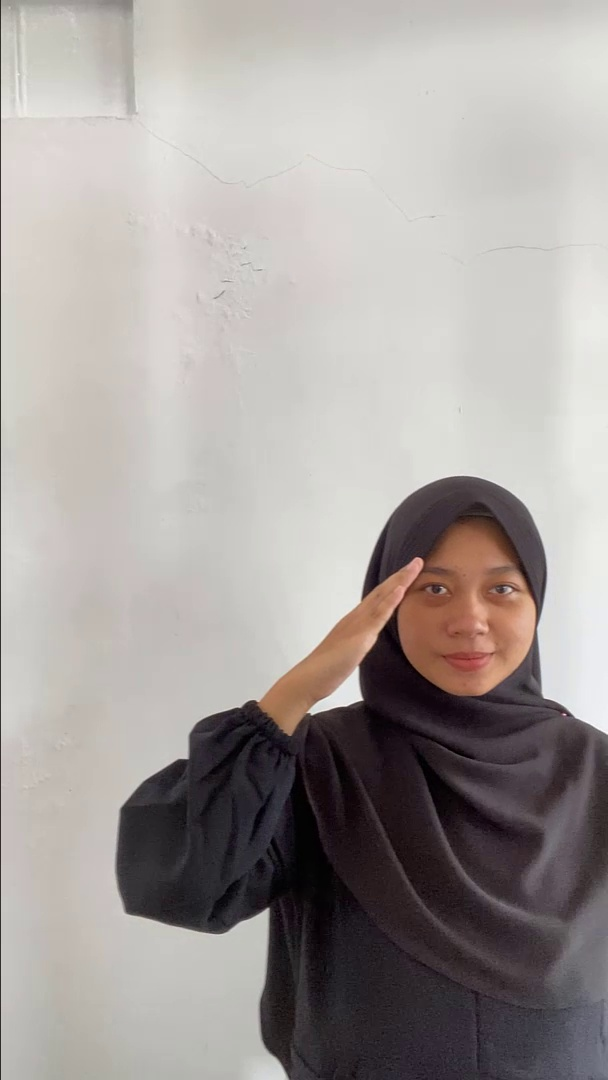SENIN: (255, 549, 431, 747)
